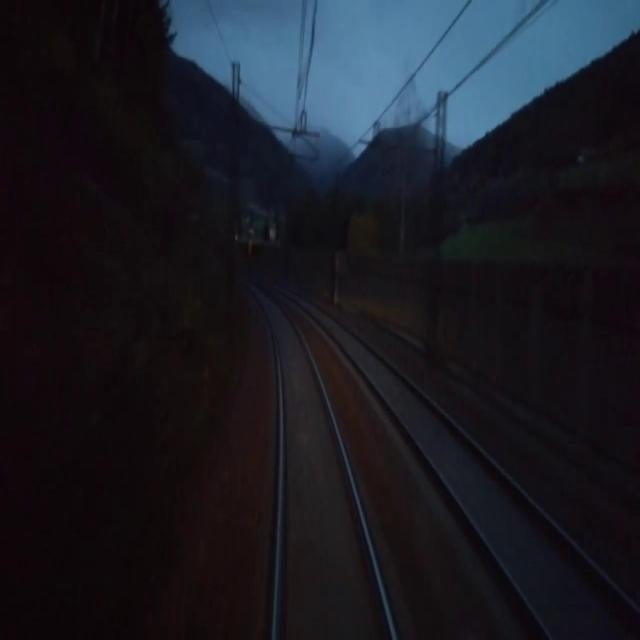rail-track: (275, 286, 640, 639), (254, 289, 393, 639)
